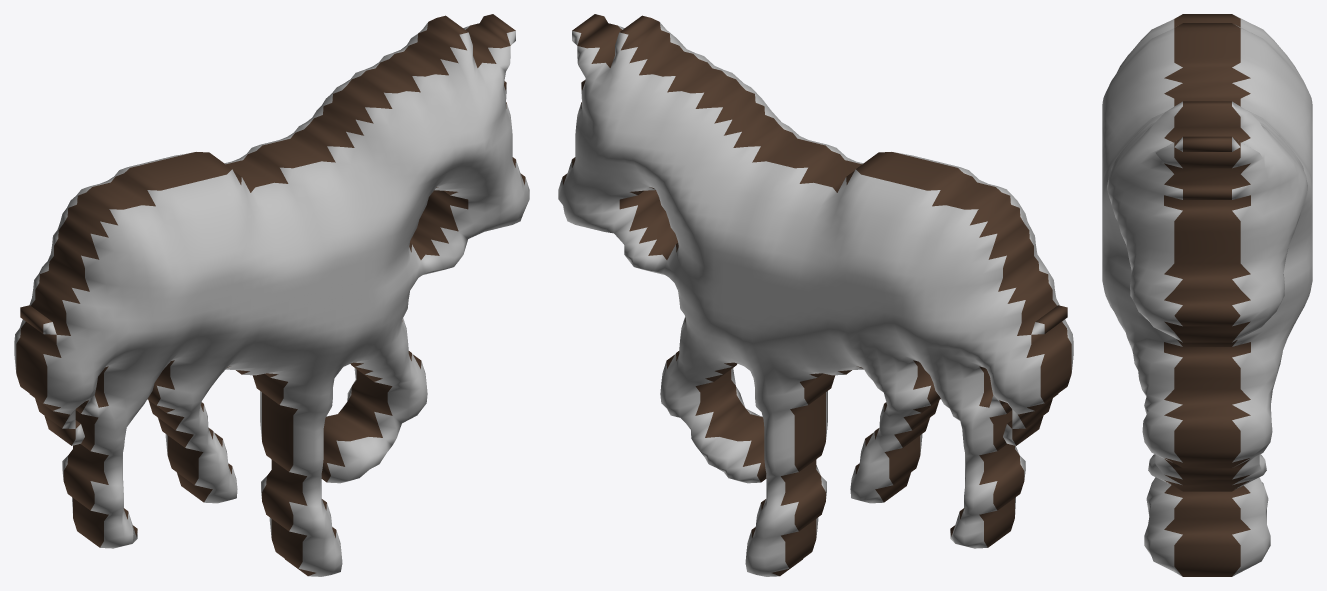
File: horse.glb
3 renders of one model, left to right at view 1: azimuth 30°, elevation 25°; view 2: azimuth 150°, elevation 25°; view 3: azimuth 270°, elevation 25°, orthographic. The views are drawn at different scales.
Parts seen in each view (by area): view 1: horse; view 2: horse; view 3: horse.
Part boxes in pixels (box(x1,y1,x2,y2)): horse: box(14, 14, 529, 576); horse: box(558, 14, 1073, 576); horse: box(1102, 14, 1312, 576).
Bounding box in the file's own units: 1.4 × 1.4 × 0.4946.
